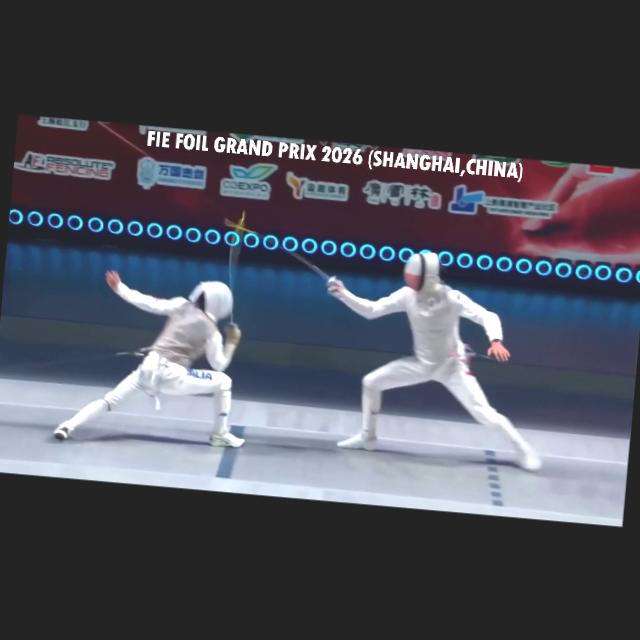blade: (214, 212, 353, 292), (218, 207, 259, 346)
